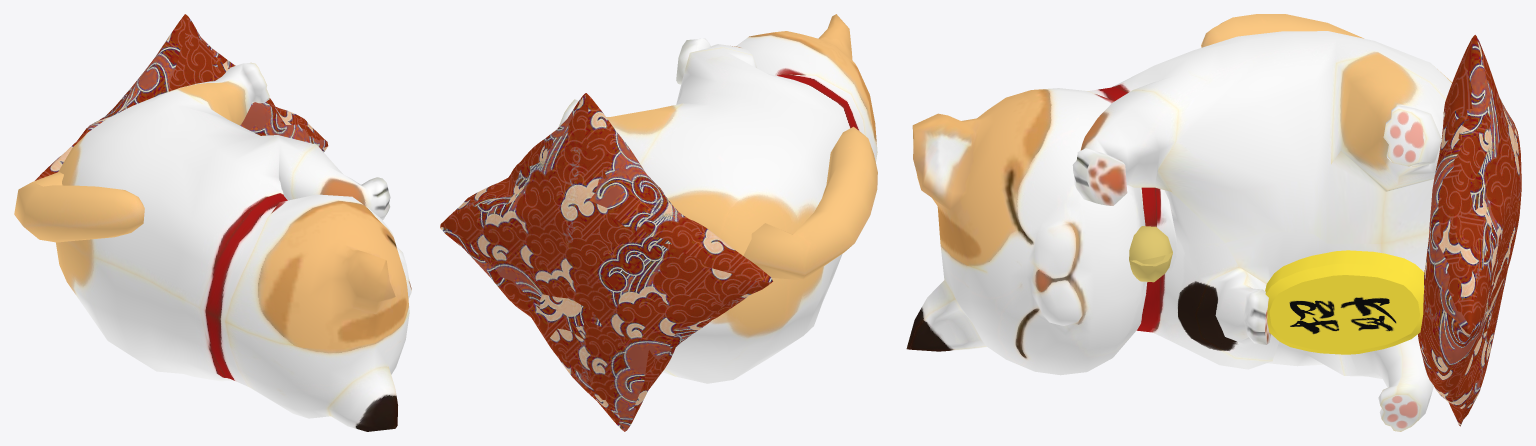
File: wpn_fps_upg_charm_luckycat.gltf
3 renders of one model, left to right at view 1: azimuth 30°, elevation 25°; view 2: azimuth 150°, elevation 25°; view 3: azimuth 270°, elevation 25°, orthographic. The views are drawn at different scales.
Visible parts, largest first — view 1: newlayout, g_pillow; view 2: newlayout, g_pillow; view 3: newlayout, g_pillow, g_coin, g_bell.
Boxes of the visible parts, box(x1,y1,x2,y2) form: newlayout: box(14, 62, 411, 431); g_pillow: box(35, 14, 328, 180); newlayout: box(558, 14, 877, 383); g_pillow: box(440, 93, 772, 431); newlayout: box(906, 14, 1452, 431); g_pillow: box(1418, 35, 1521, 426); g_coin: box(1265, 250, 1424, 354); g_bell: box(1129, 226, 1172, 282).
Bounding box in the file's own units: 0.0206 × 0.018 × 0.0243.
Materials: 4 (3 with a texture image).
